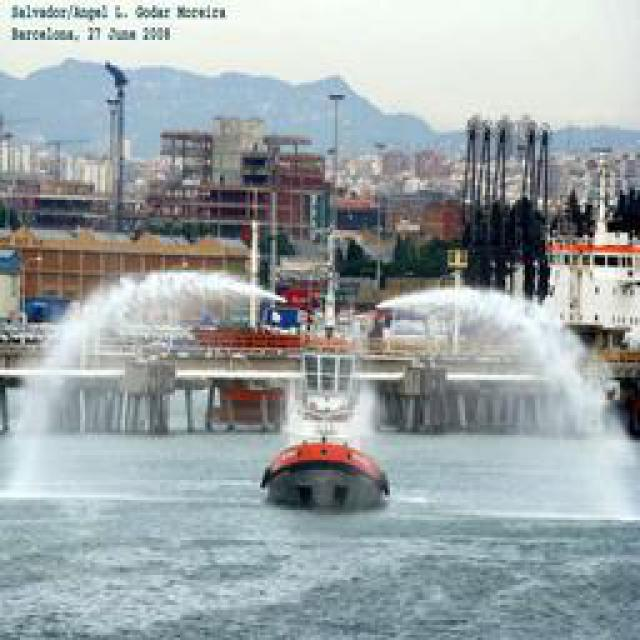Ship: (263, 439, 391, 514)
